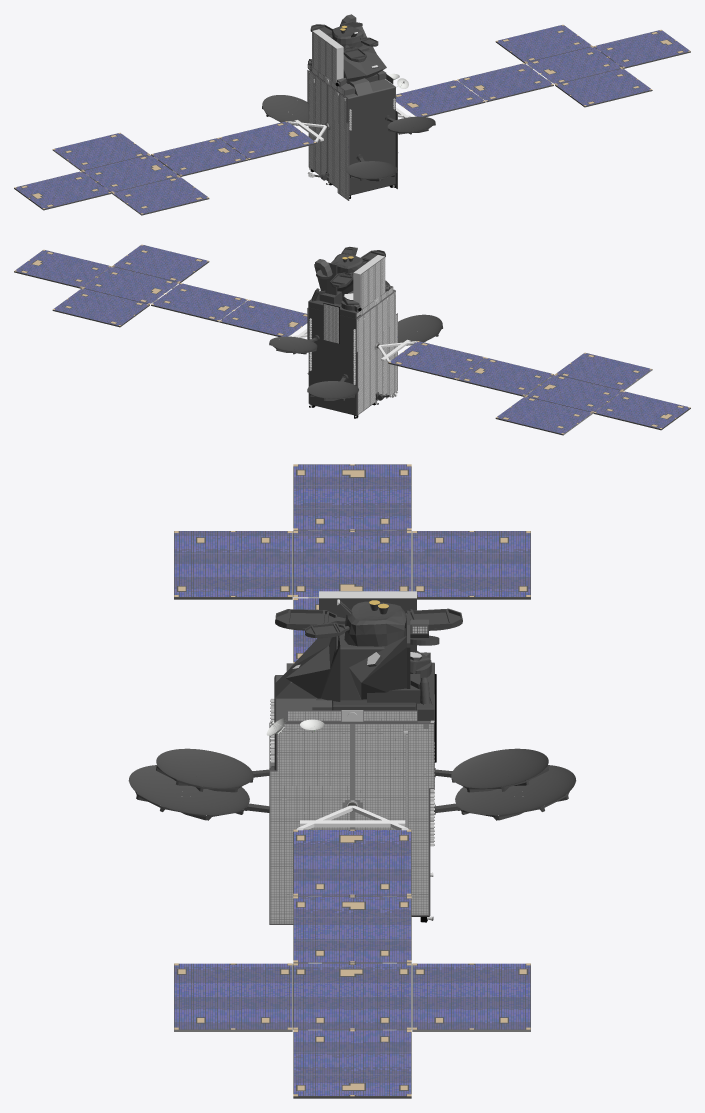
The model's file is llcd-opt.glb.
3 views of the same model, one above another, from view 1: azimuth 30°, elevation 25°; view 2: azimuth 150°, elevation 25°; view 3: azimuth 270°, elevation 25° (orthographic). The views are drawn at different scales.
Visible parts, largest first — view 1: Layer_0; view 2: Layer_0; view 3: Layer_0.
Part boxes in pixels (x1,y1,x2,y2): Layer_0: (14, 14, 690, 215); Layer_0: (14, 244, 690, 435); Layer_0: (128, 464, 576, 1098).
Size of the model in its own units: 268 by 61.27 by 80.37.
